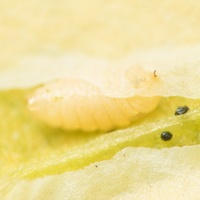insect: (175, 106, 188, 114), (161, 132, 171, 140)
